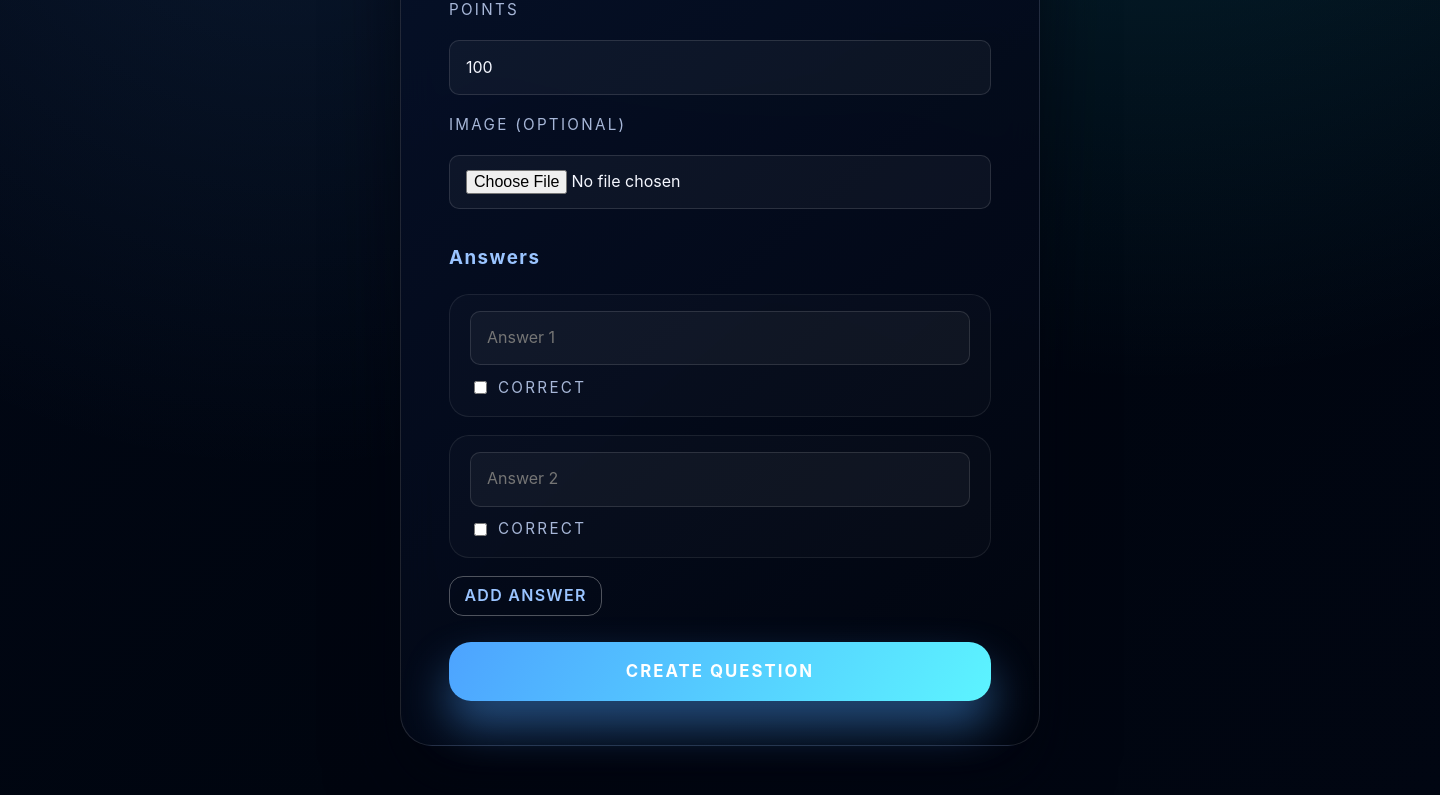
Test: CreateQuestions Component › adds new answer
(page scrolled)
Click the button "Add Answer". click: (526, 596)
box: [449, 576, 602, 616]
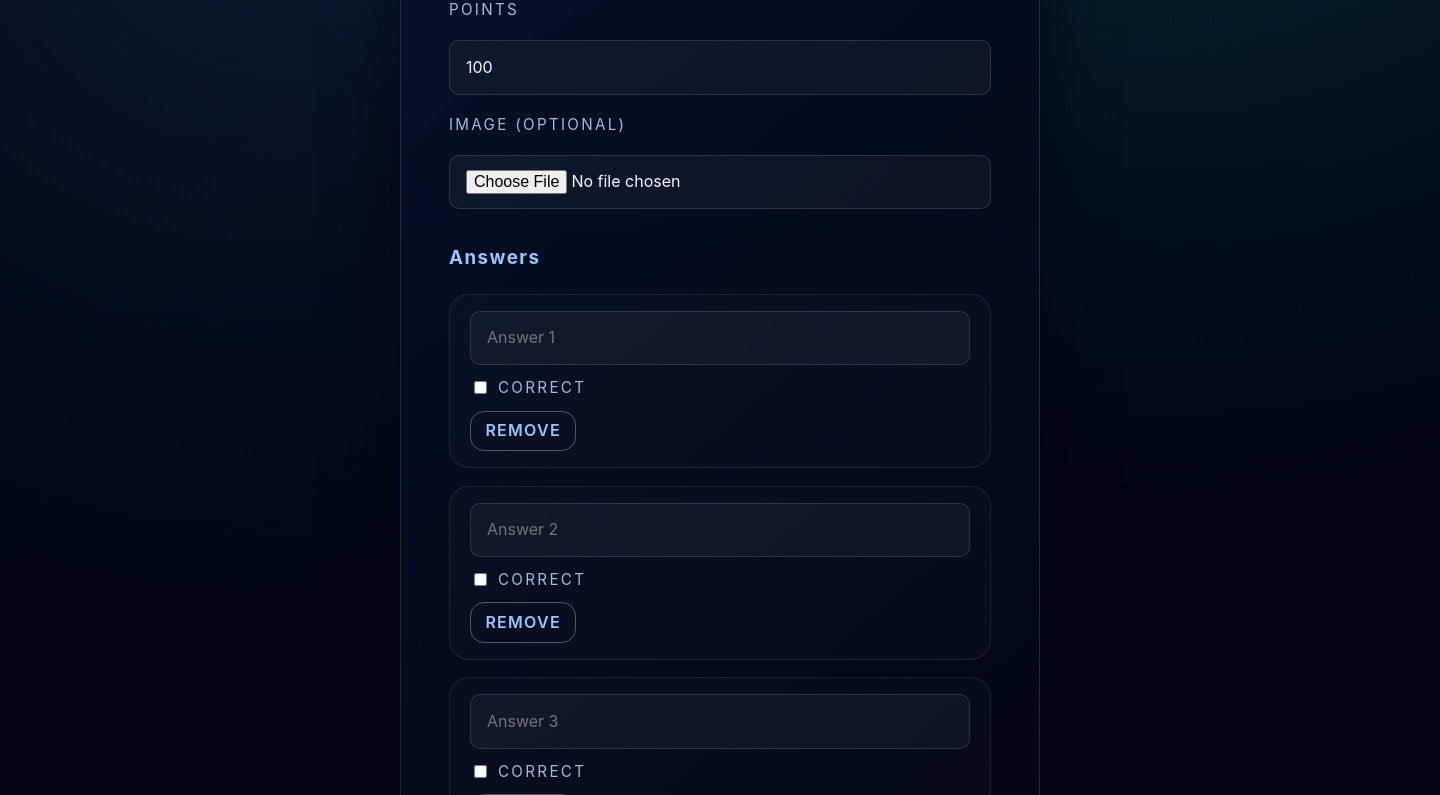
Result: the number of fields with placeholder "Answer 1" is 3 at [470, 311, 970, 366]; [470, 502, 970, 557]; [470, 694, 970, 749]
